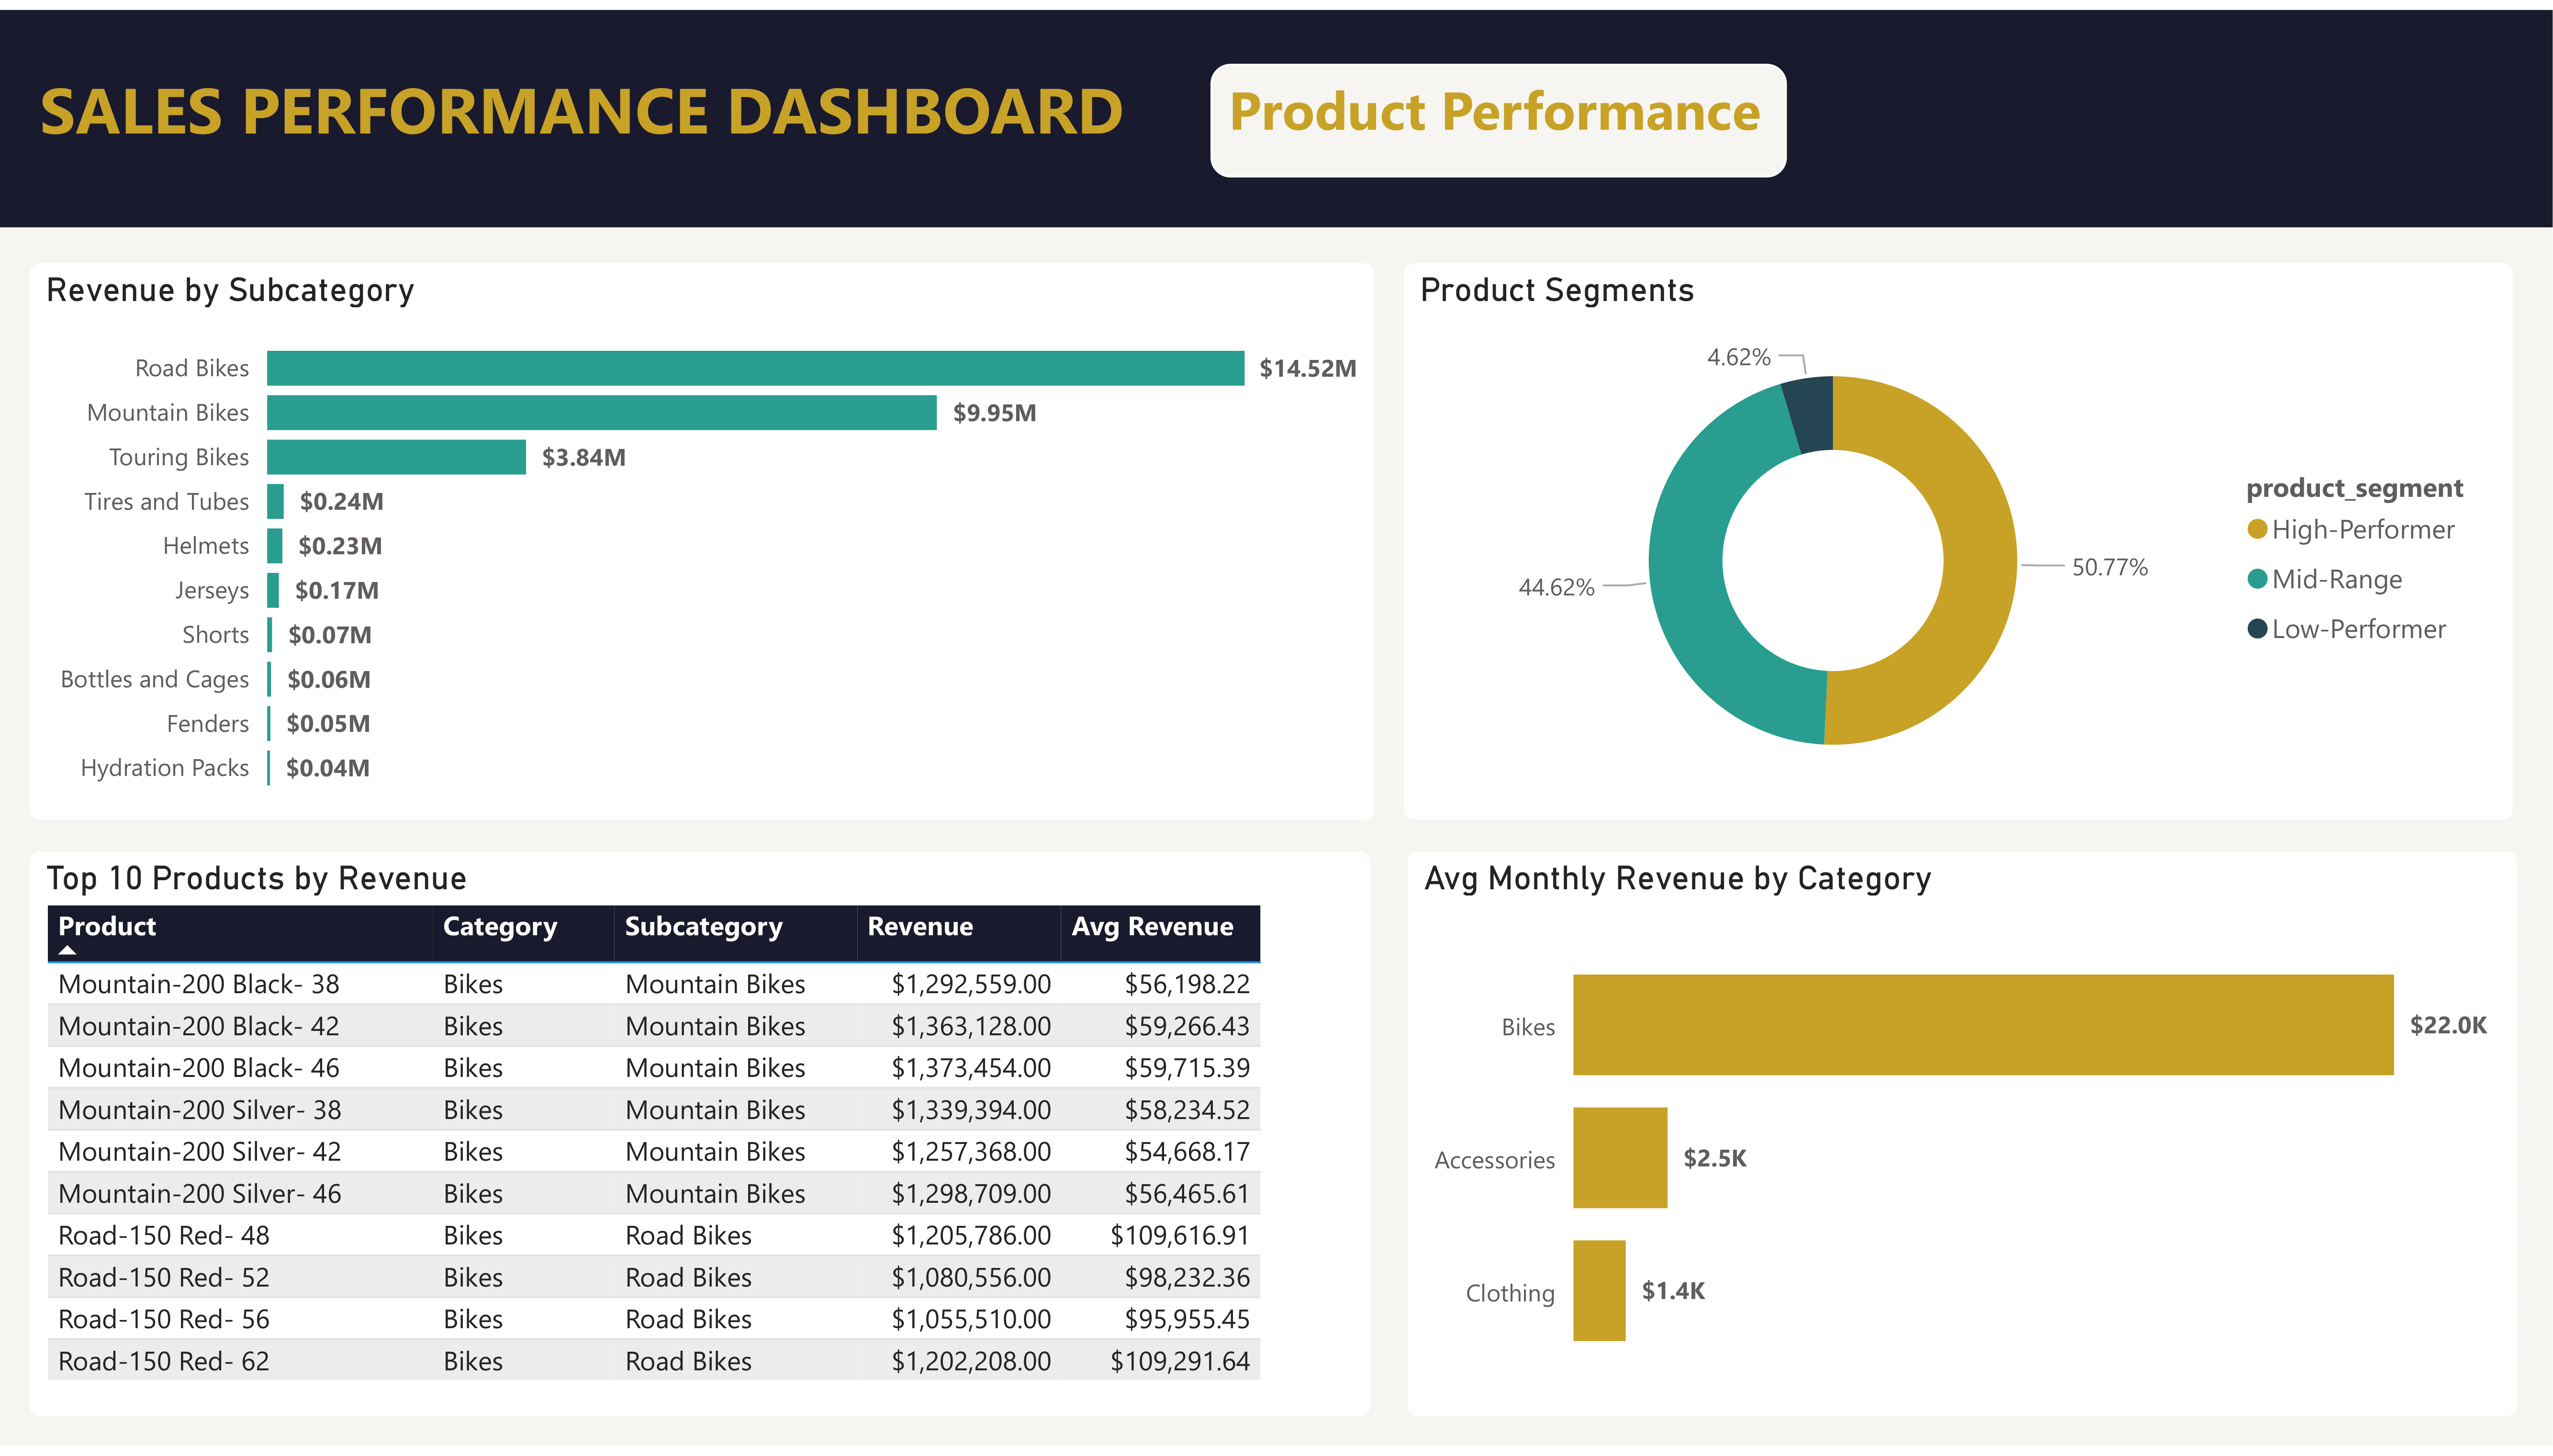

What the dashboard file says about the page in this screenshot:
{"tool":"powerbi","page":{"name":"Product Performance","canvas":[1280,720],"ordinal":2},"visuals":[{"type":"shape","box":[0,0,1280,109.3],"z":0},{"type":"donutChart","title":"Product Segments","fields":{"Category":["report_products.product_segment"],"Y":["CountNonNull(report_products.product_key)"]},"box":[704.5,127,556.3,279.1],"z":1},{"type":"clusteredBarChart","title":"Revenue by Subcategory","fields":{"Category":["report_products.subcategory"],"Y":["Sum(report_products.total_sales)"]},"box":[15.4,127,673.7,279.1],"z":2},{"type":"tableEx","title":"Top 10 Products by Revenue","fields":{"Values":["report_products.product_name","report_products.category","report_products.subcategory","Sum(report_products.total_sales)","Avg(report_products.avg_monthly_revenue)"]},"box":[15.4,421.5,671.8,282.9],"z":3},{"type":"clusteredBarChart","title":"Avg Monthly Revenue by Category","fields":{"Category":["report_products.category"],"Y":["Avg(report_products.avg_monthly_revenue)"]},"box":[706.4,421.5,556.3,282.9],"z":4},{"type":"textbox","title":"Product Performance ","box":[606.7,26.6,289.1,57.1],"z":5},{"type":"textbox","title":"SALES PERFORMANCE DASHBOARD","box":[15.2,26.6,591.5,57.1],"z":6}]}

Visuals, with their boxes in screenshot pixels (x1, y1, x2, y2), scaled from the page's 1280x720 canvas onto the 2553x1456 screenshot:
shape: bbox=[0, 0, 2553, 221]
"Product Segments" donutChart: bbox=[1405, 257, 2515, 821]
"Revenue by Subcategory" clusteredBarChart: bbox=[31, 257, 1375, 821]
"Top 10 Products by Revenue" tableEx: bbox=[31, 852, 1371, 1424]
"Avg Monthly Revenue by Category" clusteredBarChart: bbox=[1409, 852, 2519, 1424]
"Product Performance " textbox: bbox=[1210, 54, 1787, 169]
"SALES PERFORMANCE DASHBOARD" textbox: bbox=[30, 54, 1210, 169]
